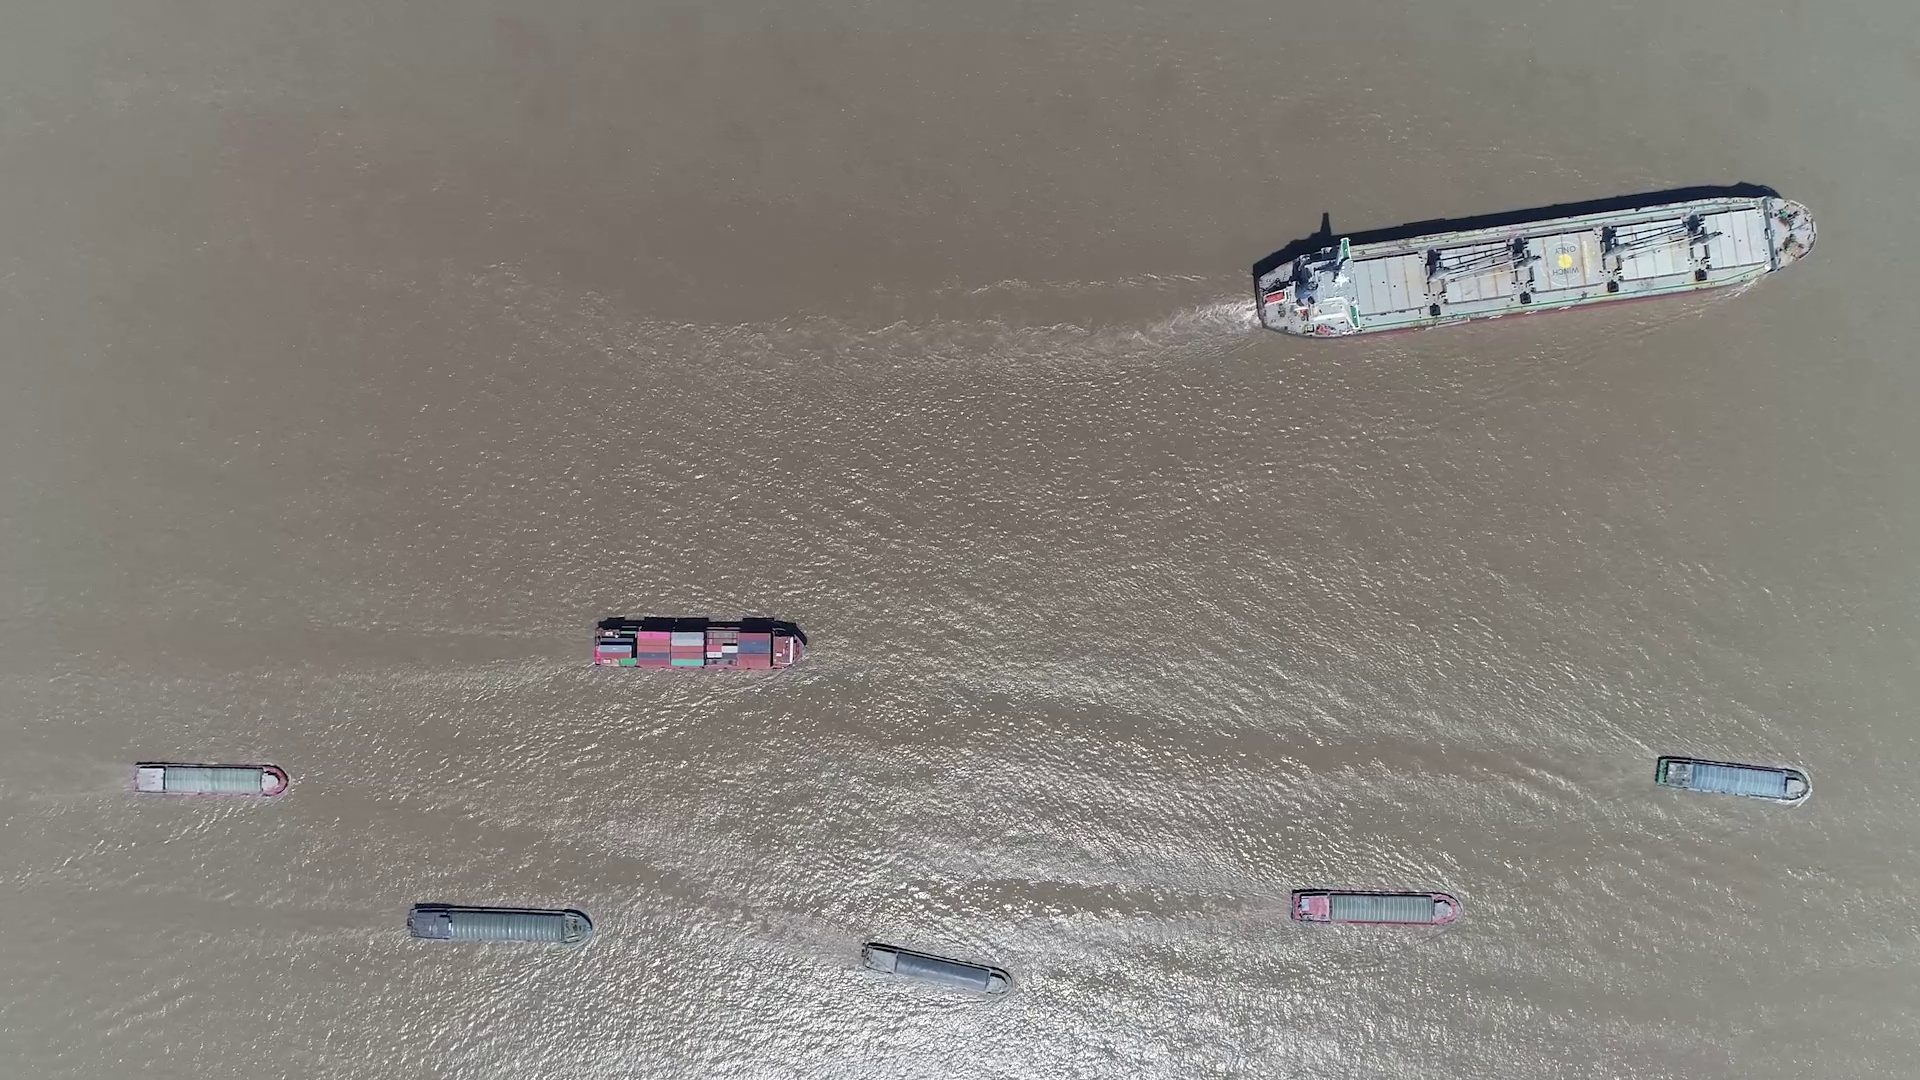ship: (1251, 193, 1813, 338), (592, 620, 806, 670), (858, 942, 1009, 994), (407, 905, 592, 945), (1655, 754, 1811, 802), (1290, 890, 1460, 928), (131, 761, 287, 796)
